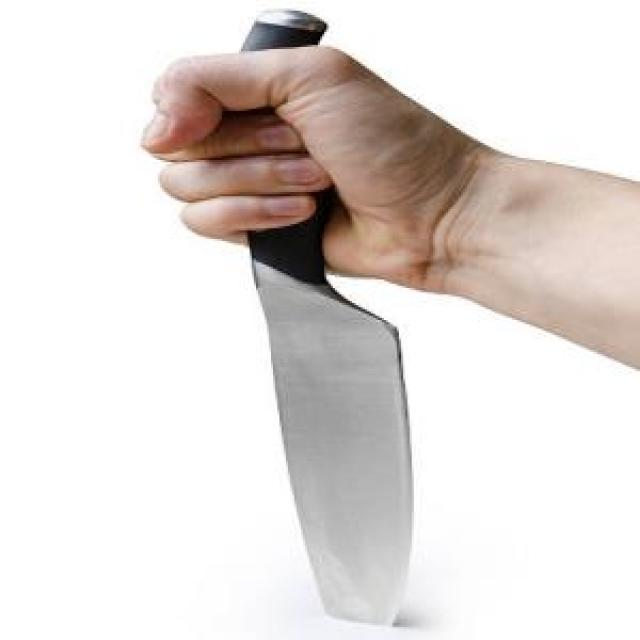knife: (232, 2, 410, 625)
